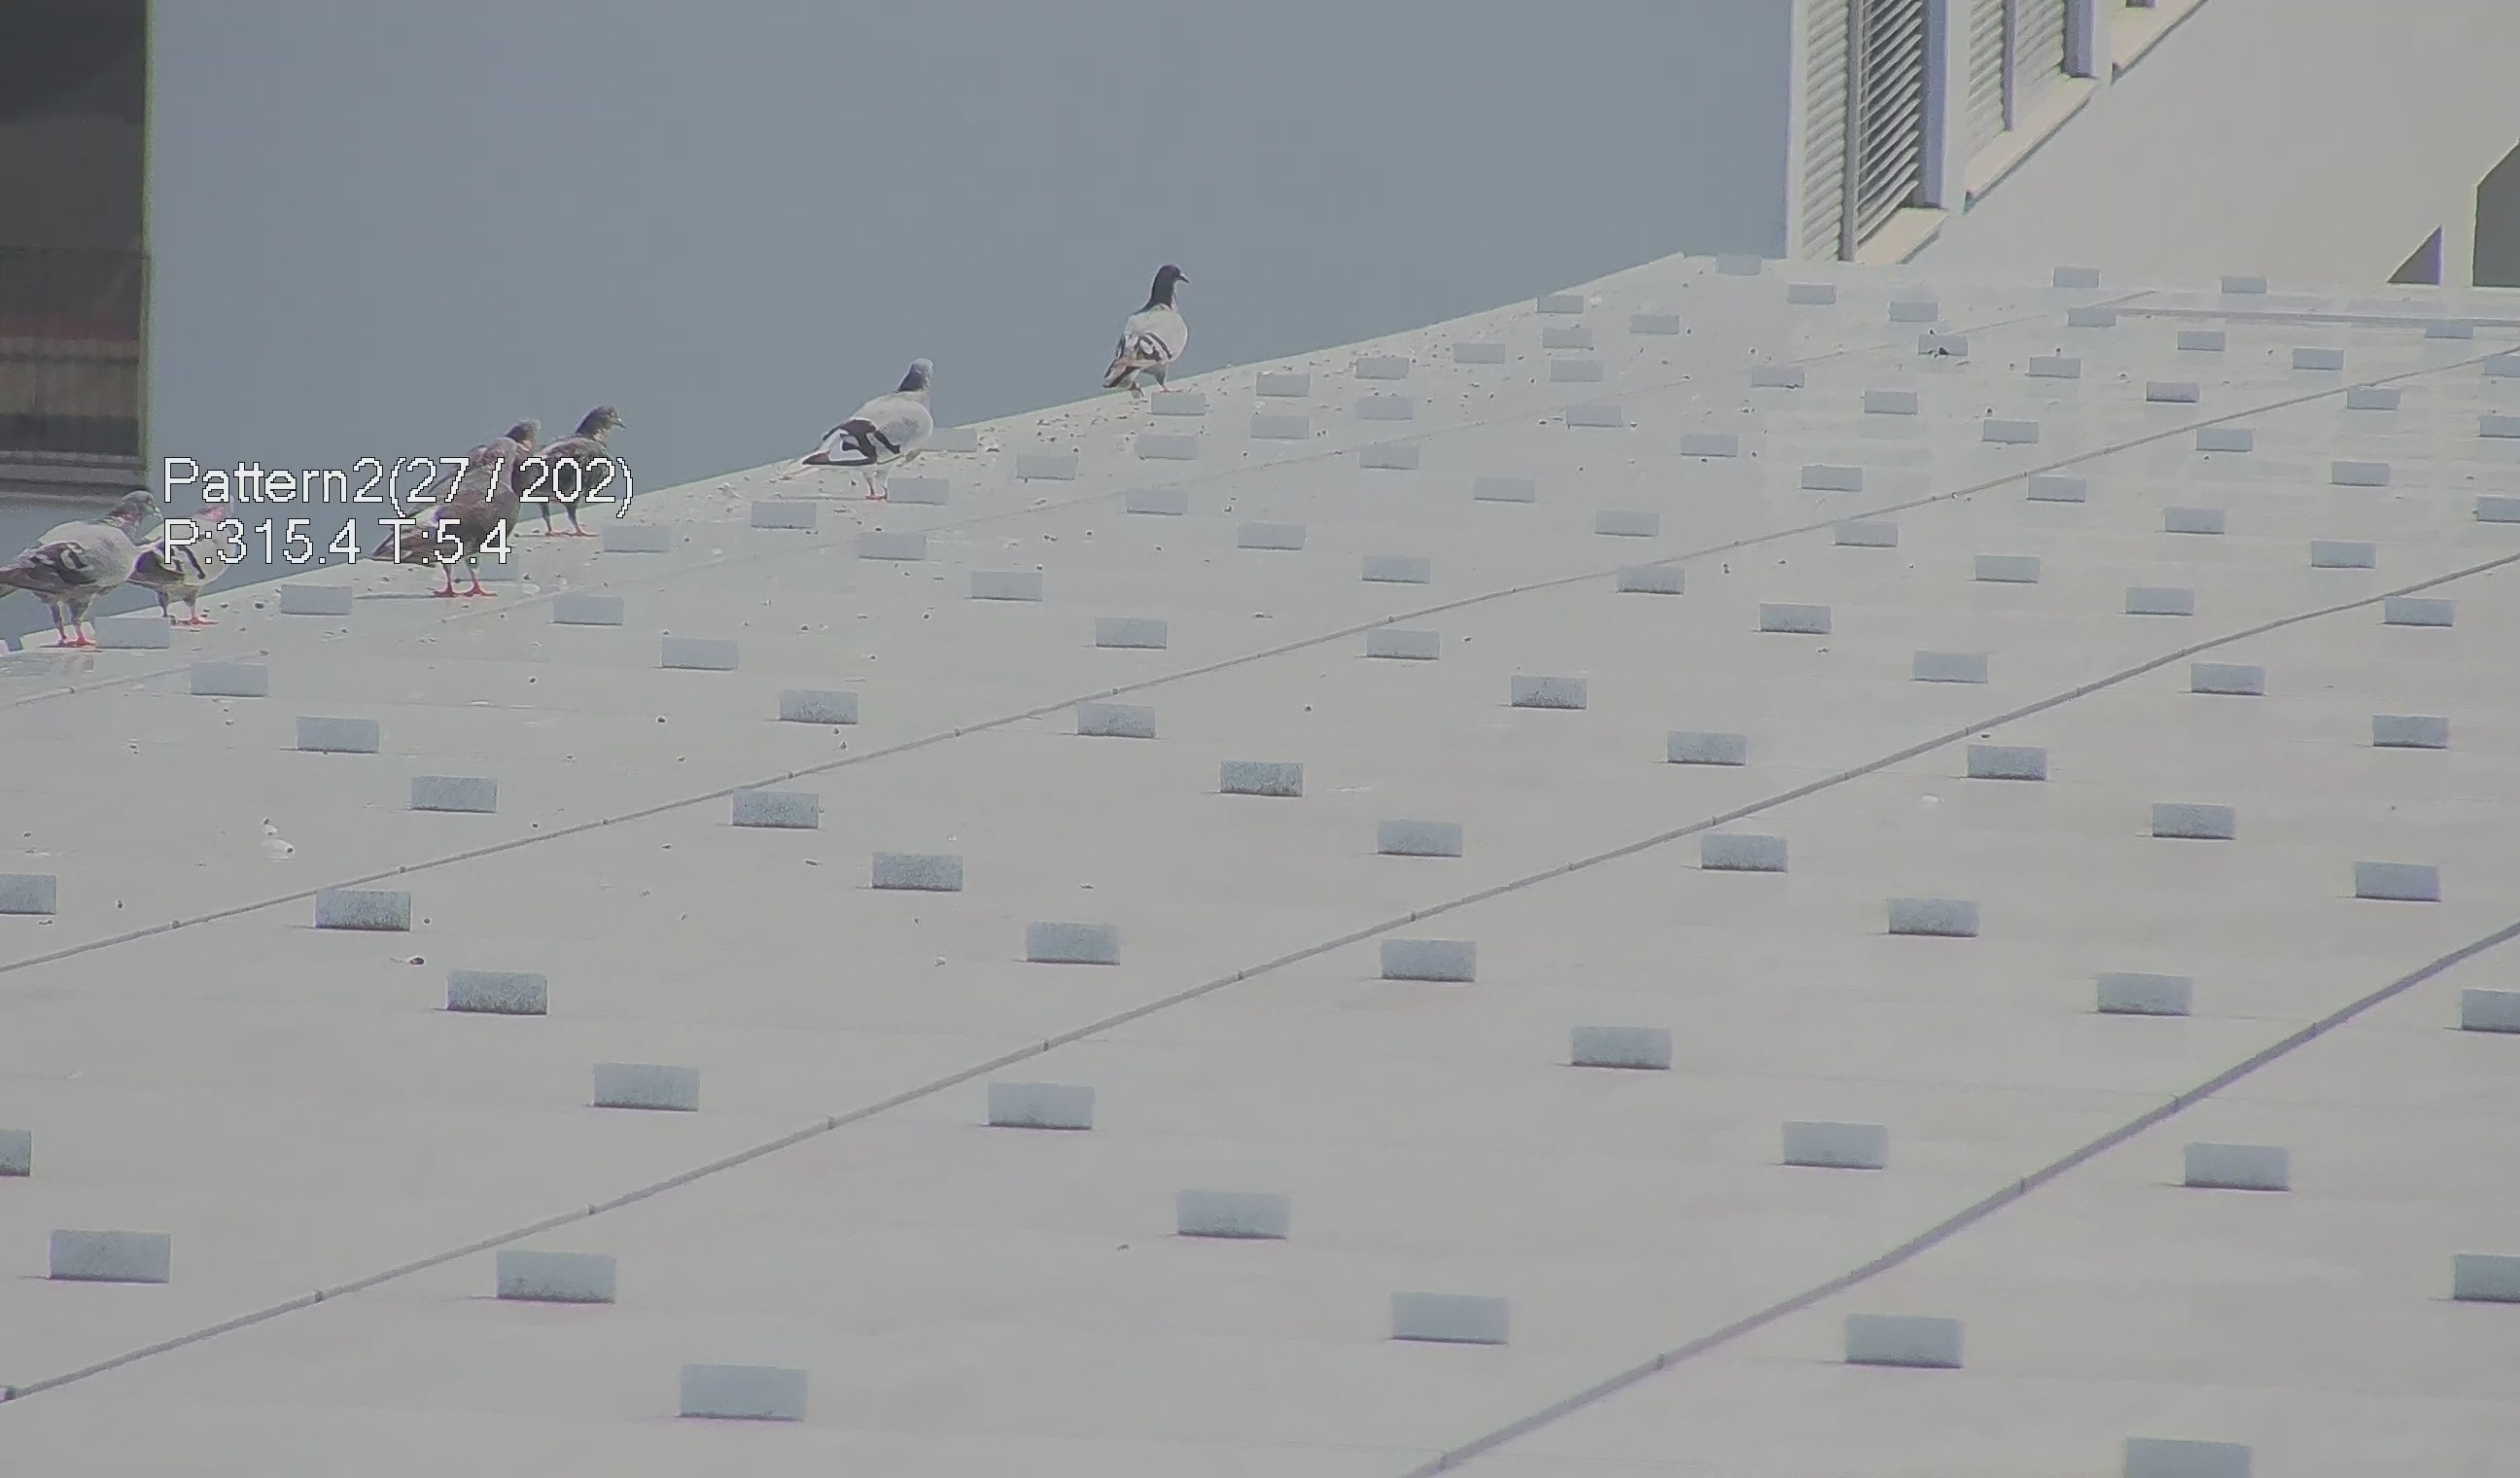Pigeon: (2, 473, 192, 649), (128, 475, 253, 676), (390, 412, 526, 591), (503, 394, 649, 540), (795, 347, 944, 484), (1089, 246, 1194, 412)
